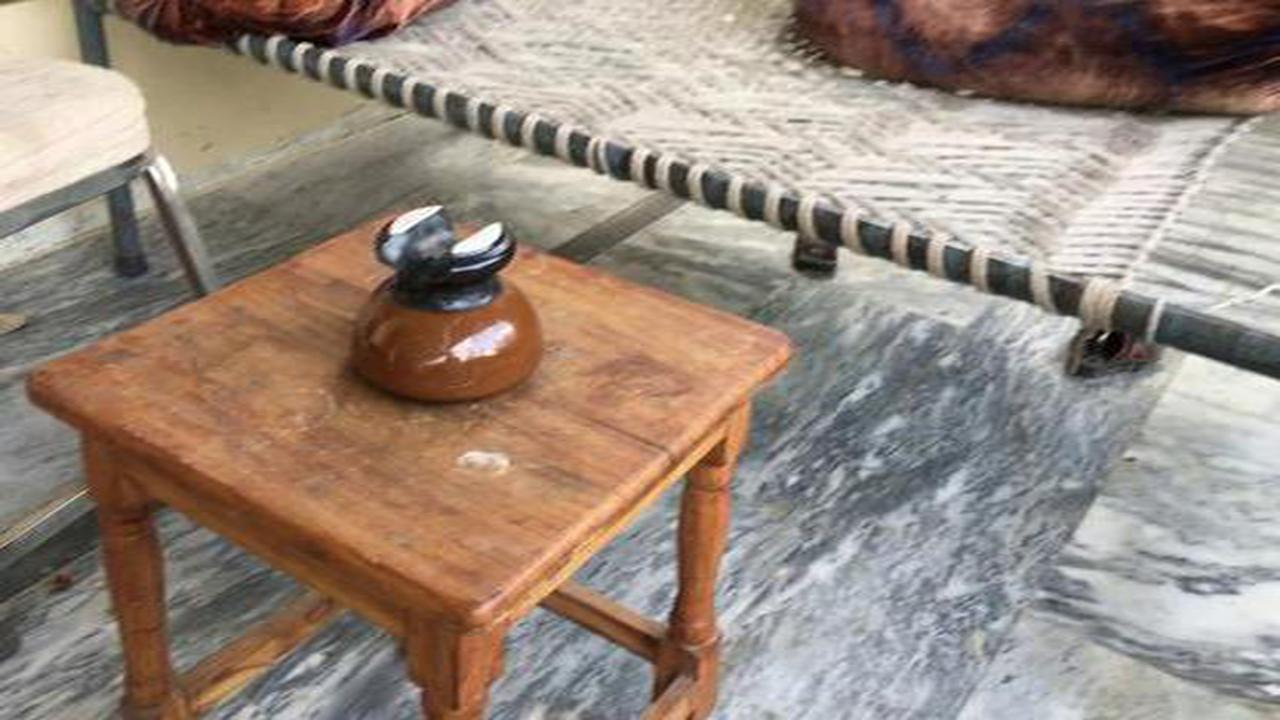insulator_pin: (336, 193, 564, 416)
